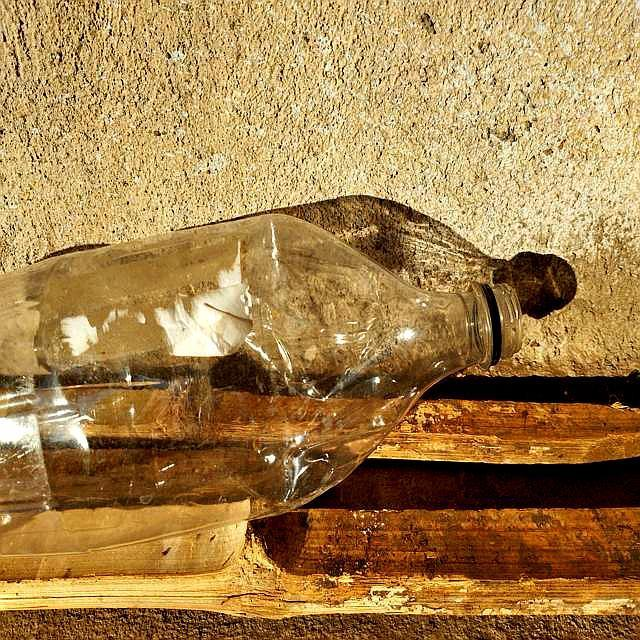Non-biodegradable: (1, 217, 523, 549)
